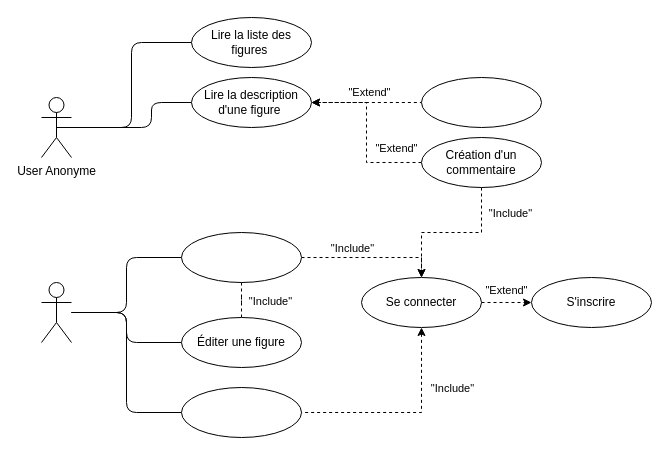
The diagram is 669 pixels wide and 455 high, and some of its shapes have lost their labels. The centre of each missing label's shape, as x and y in pixels:
Création d'une figure: pixel 241 257
Lire les commentaires: pixel 481 102
Supprimer une figure: pixel 241 412
User X: pixel 56 312
